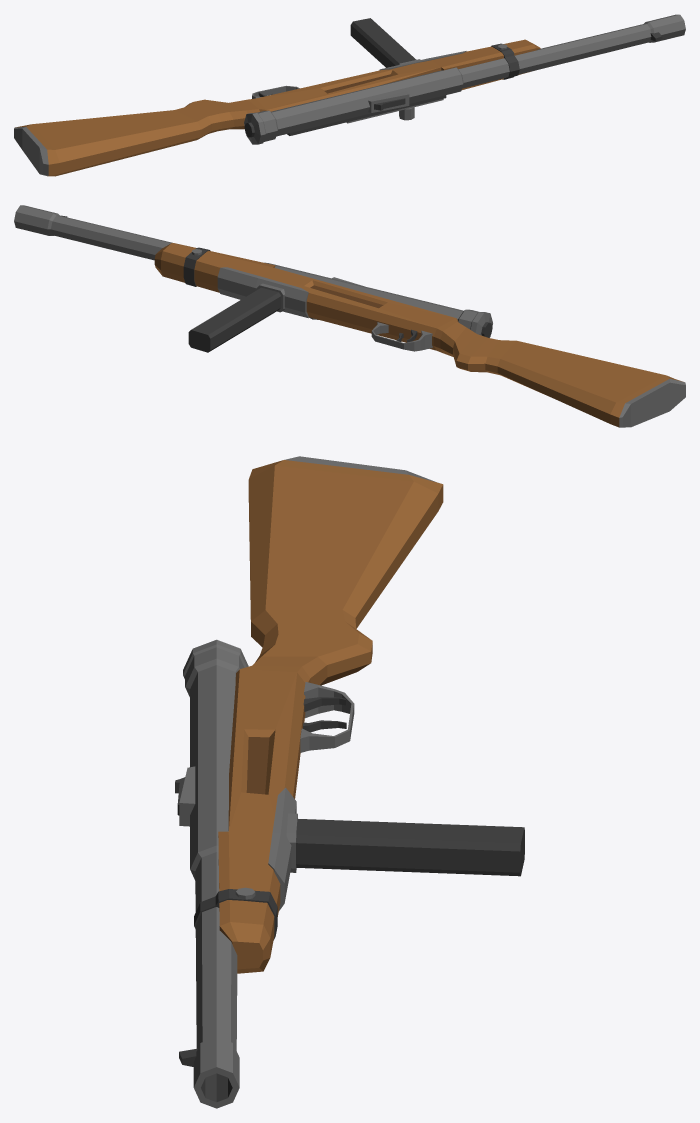
File: Beretta38_3D.glb
3 views of the same model, one above another, from view 1: azimuth 30°, elevation 25°; view 2: azimuth 150°, elevation 25°; view 3: azimuth 270°, elevation 25° (orthographic). The views are drawn at different scales.
Visible parts, largest first — view 1: Beretta38 (1); view 2: Beretta38 (1); view 3: Beretta38 (1).
Boxes of the visible parts, x1=… form: Beretta38 (1): x1=14, y1=14, x2=685, y2=176; Beretta38 (1): x1=14, y1=205, x2=685, y2=427; Beretta38 (1): x1=175, y1=456, x2=524, y2=1108.
Bounding box in the file's own units: 1.02 × 0.0634 × 0.2468.
Materials: 1 (1 with a texture image).
